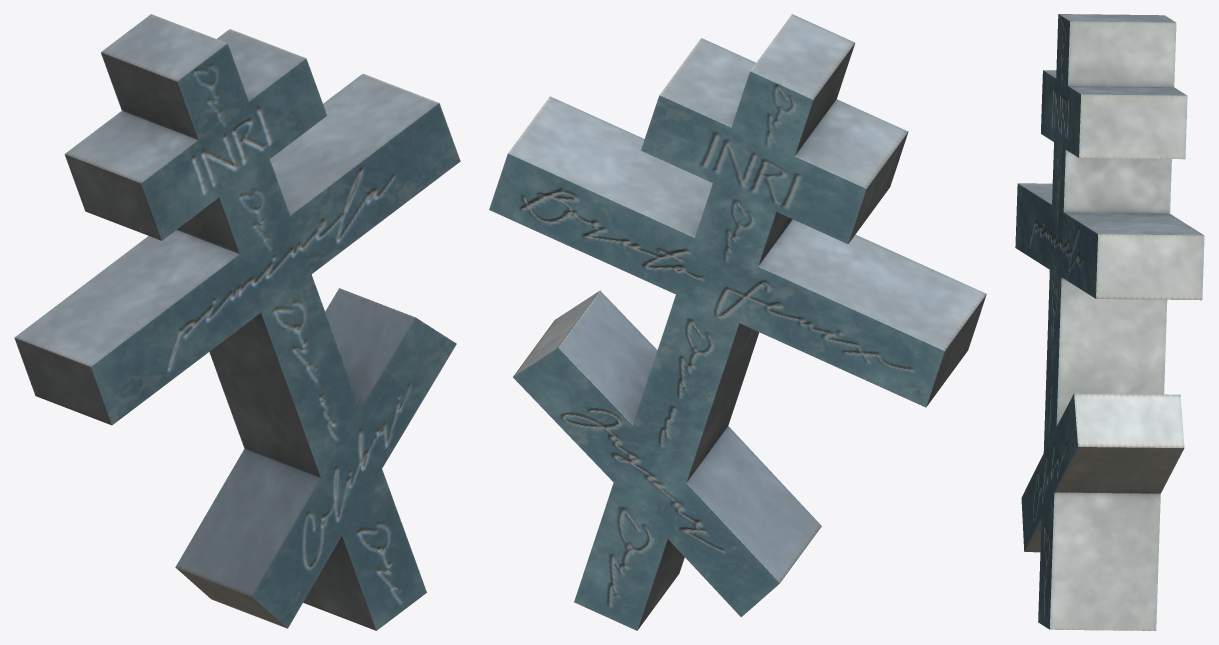
The picture shows the model from 3 angles, left to right: view 1: azimuth 30°, elevation 25°; view 2: azimuth 150°, elevation 25°; view 3: azimuth 270°, elevation 25°; orthographic projection. The views are drawn at different scales.
Visible parts, largest first — view 1: Cruz_Orto_Cube.011; view 2: Cruz_Orto_Cube.011; view 3: Cruz_Orto_Cube.011.
Part boxes in pixels (<box>): Cruz_Orto_Cube.011: <box>14,14,460,630</box>; Cruz_Orto_Cube.011: <box>489,14,986,630</box>; Cruz_Orto_Cube.011: <box>1015,14,1204,630</box>.
Size of the model in its own units: 1.97 by 2.69 by 0.8357.
